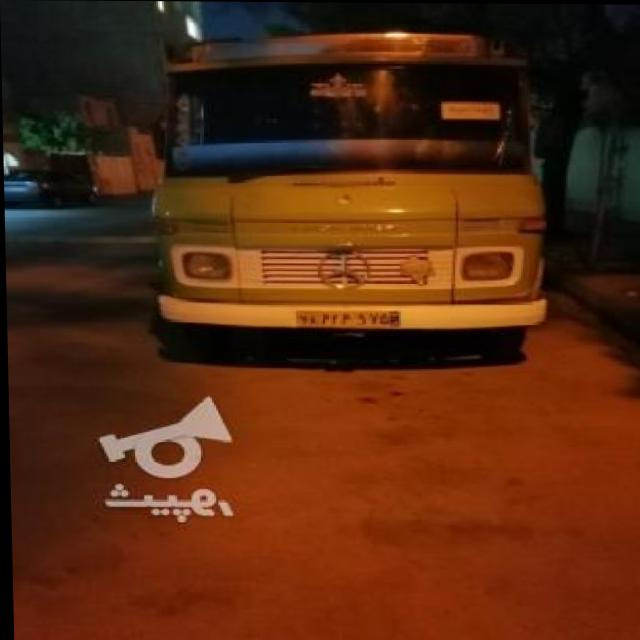licence: (297, 308, 403, 325)
